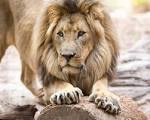lion: (6, 1, 124, 117)
